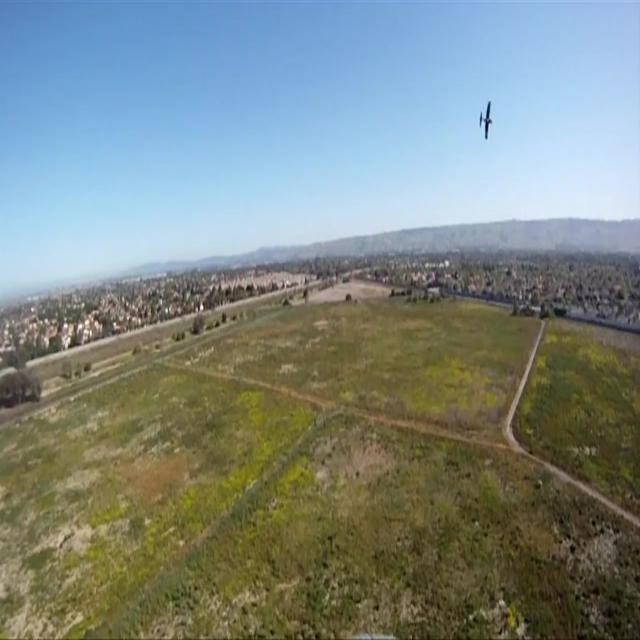iha: (478, 34, 496, 79)
